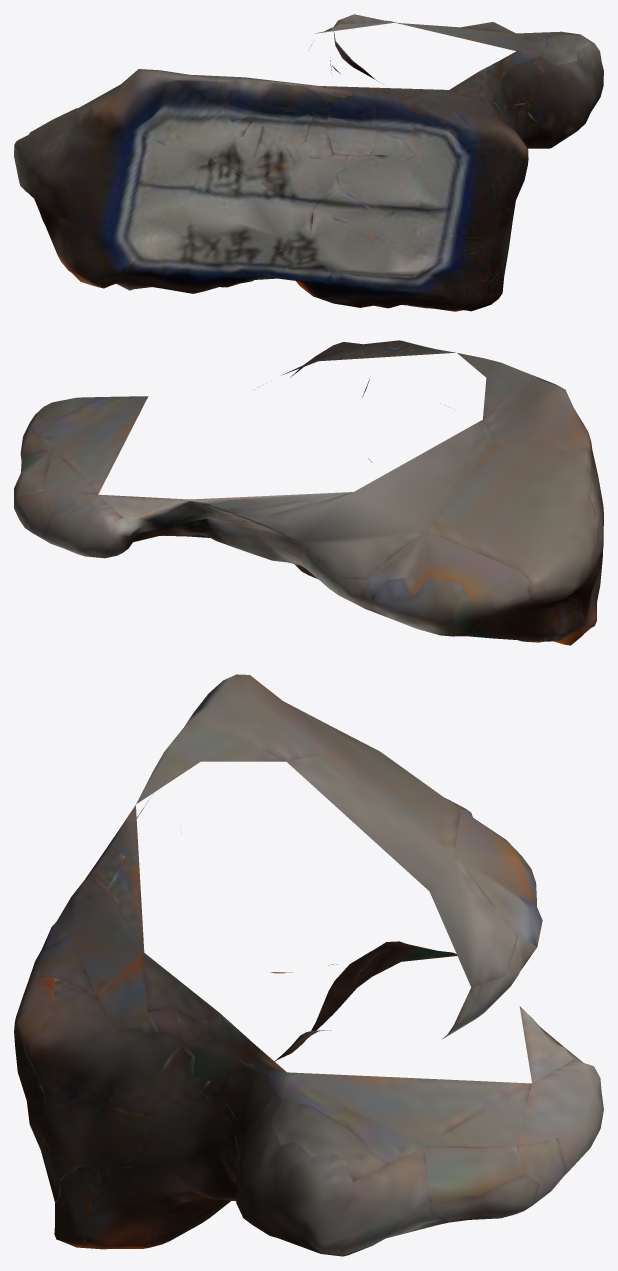
The model's file is hall.glb.
3 views of the same model, one above another, from view 1: azimuth 30°, elevation 25°; view 2: azimuth 150°, elevation 25°; view 3: azimuth 270°, elevation 25° (orthographic). The views are drawn at different scales.
Size of the model in its own units: 0.9315 by 0.4315 by 0.5943.
Materials: 1 (1 with a texture image).
